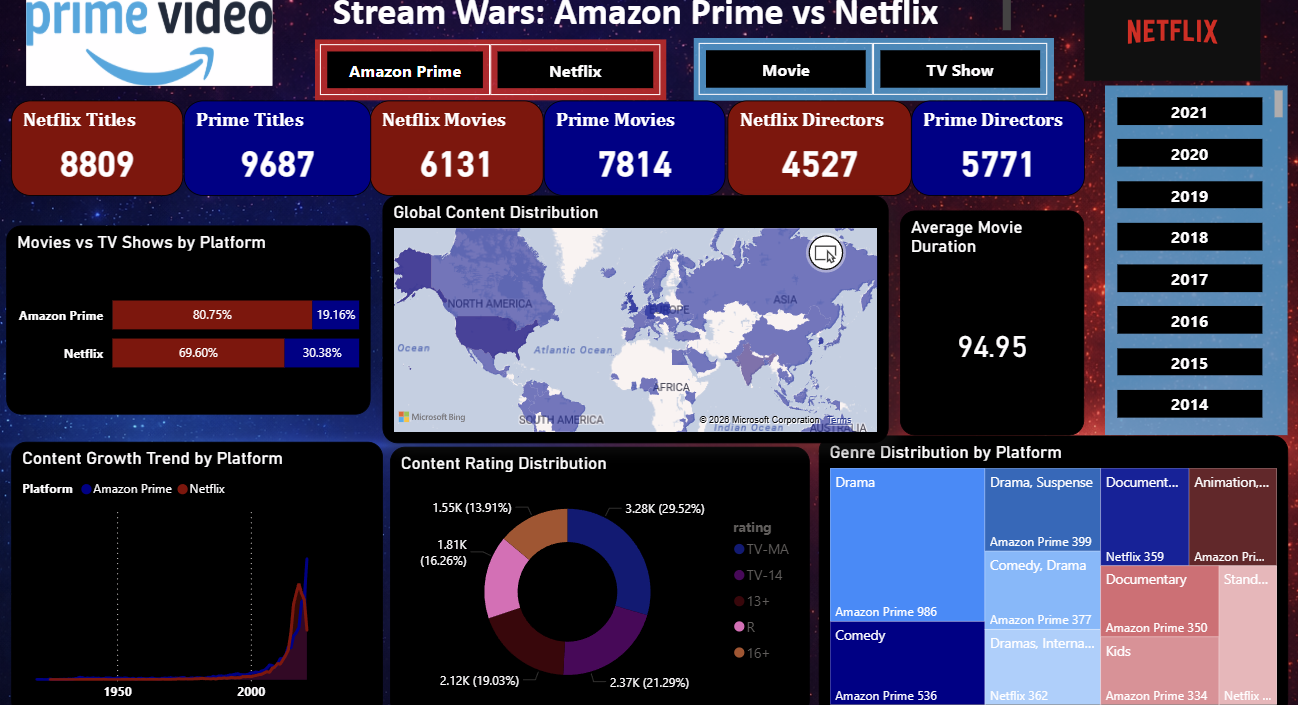

Layout of this report page (visuals, bound fields, positions):
{"tool":"powerbi","page":{"name":"STREAM WARS","canvas":[1280,720],"ordinal":0},"visuals":[{"type":"textbox","box":[267.6,0,730,53.5],"z":0},{"type":"image","box":[1022.3,0,258,96.1],"z":1000},{"type":"image","box":[26.1,5.5,241.5,96.1],"z":2000},{"type":"advancedSlicerVisual","fields":{"Values":["streaming_data.Platform"]},"box":[308.7,54.9,344.4,60.4],"z":3000},{"type":"advancedSlicerVisual","fields":{"Values":["streaming_data.type"]},"box":[681.3,54.2,353.5,61.3],"z":4000},{"type":"listSlicer","fields":{"Values":["streaming_data.release_year"]},"box":[1084.7,101.2,179.6,343.5],"z":5000},{"type":"card","title":"Netflix Titles","fields":{"Values":["amazon_prime_titles.Total Netflix Titles"]},"box":[11,115.3,168.8,93.3],"z":6000},{"type":"card","title":"Netflix Directors","fields":{"Values":["amazon_prime_titles.Netflix Directors"]},"box":[713.6,115.3,181.1,93.3],"z":7000},{"type":"card","title":"Netflix Movies","fields":{"Values":["amazon_prime_titles.Total Netflix Movies"]},"box":[363.6,115.3,170.2,93.3],"z":8000},{"type":"card","title":"Prime Movies","fields":{"Values":["amazon_prime_titles.Total Prime Movies"]},"box":[533.8,115.3,178.4,93.3],"z":9000},{"type":"card","title":"Prime Titles","fields":{"Values":["amazon_prime_titles.Total Prime Titles"]},"box":[179.8,115.3,183.9,93.3],"z":10000},{"type":"card","title":"Prime Directors","fields":{"Values":["amazon_prime_titles.Prime Directors"]},"box":[894.7,115.3,170.2,93.3],"z":11000},{"type":"donutChart","title":"Content Rating Distribution","fields":{"Category":["streaming_data.rating"],"Y":["CountNonNull(streaming_data.title)"]},"box":[383.4,454.7,411.9,263.7],"z":12000},{"type":"lineChart","title":"Content Growth Trend by Platform","fields":{"Category":["streaming_data.release_year"],"Series":["streaming_data.Platform"],"Y":["Count(streaming_data.title)"]},"box":[11.4,450.4,364.9,269.4],"z":13000},{"type":"treemap","title":"Genre Distribution by Platform","fields":{"Details":["streaming_data.Platform"],"Group":["streaming_data.listed_in"],"Values":["CountNonNull(streaming_data.title)"]},"box":[803.9,444.7,460.4,275.1],"z":14000},{"type":"hundredPercentStackedBarChart","title":"Movies vs TV Shows by Platform","fields":{"Category":["streaming_data.Platform"],"Series":["streaming_data.type"],"Y":["Count(streaming_data.title)"]},"box":[5.7,238,357.8,185.3],"z":15000},{"type":"filledMap","title":"Global Content Distribution","fields":{"Category":["streaming_data.country"]},"box":[376,208.6,496.7,242.9],"z":16000},{"type":"card","title":"Average Movie Duration","fields":{"Values":["Avg(streaming_data.Duration_Minutes.1)"]},"box":[883.7,223.8,181,220.9],"z":17000}]}

Visuals, with their boxes on the page's 1280x720 design canvas (x1, y1, x2, y2). These are canvas units, not pixel positions in the 1298x705 screenshot, which may show the page scaled, cropped or inside an application window:
textbox: bbox=(268, 0, 998, 54)
image: bbox=(1022, 0, 1280, 96)
image: bbox=(26, 6, 268, 102)
advancedSlicerVisual - streaming_data.Platform: bbox=(309, 55, 653, 115)
advancedSlicerVisual - streaming_data.type: bbox=(681, 54, 1035, 116)
listSlicer - streaming_data.release_year: bbox=(1085, 101, 1264, 445)
"Netflix Titles" card: bbox=(11, 115, 180, 209)
"Netflix Directors" card: bbox=(714, 115, 895, 209)
"Netflix Movies" card: bbox=(364, 115, 534, 209)
"Prime Movies" card: bbox=(534, 115, 712, 209)
"Prime Titles" card: bbox=(180, 115, 364, 209)
"Prime Directors" card: bbox=(895, 115, 1065, 209)
"Content Rating Distribution" donutChart: bbox=(383, 455, 795, 718)
"Content Growth Trend by Platform" lineChart: bbox=(11, 450, 376, 720)
"Genre Distribution by Platform" treemap: bbox=(804, 445, 1264, 720)
"Movies vs TV Shows by Platform" hundredPercentStackedBarChart: bbox=(6, 238, 364, 423)
"Global Content Distribution" filledMap: bbox=(376, 209, 873, 452)
"Average Movie Duration" card: bbox=(884, 224, 1065, 445)
